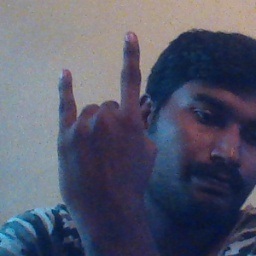V: (53, 30, 158, 210)
